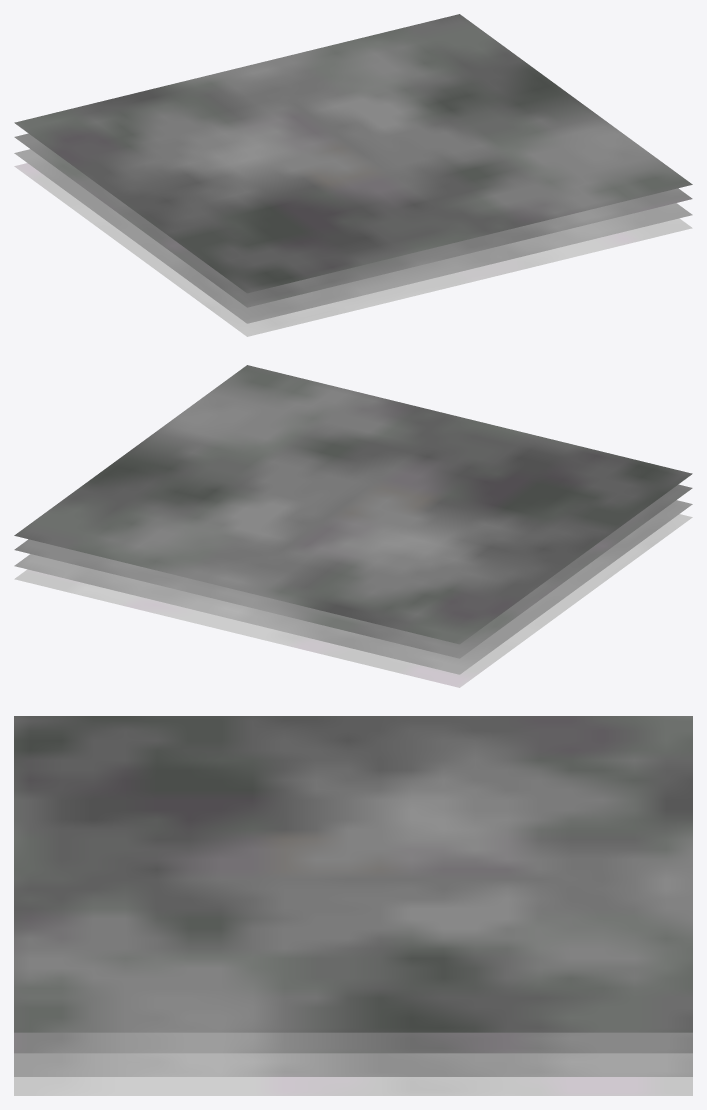
Rendered from SWORDLIGHT20_MAINCAVERNCLOUDS02.fbx.
3 views of the same model, one above another, from view 1: azimuth 30°, elevation 25°; view 2: azimuth 150°, elevation 25°; view 3: azimuth 270°, elevation 25° (orthographic). The views are drawn at different scales.
Visible parts, largest first — view 1: SWORDLIGHT20_MAINCAVERNCLOUDS02; view 2: SWORDLIGHT20_MAINCAVERNCLOUDS02; view 3: SWORDLIGHT20_MAINCAVERNCLOUDS02.
Part boxes in pixels (box(x1,y1,x2,y2)): SWORDLIGHT20_MAINCAVERNCLOUDS02: box(14, 14, 692, 336); SWORDLIGHT20_MAINCAVERNCLOUDS02: box(14, 365, 692, 687); SWORDLIGHT20_MAINCAVERNCLOUDS02: box(14, 716, 692, 1095).
Bounding box in the file's own units: 161490 × 15056 × 146334.
Materials: 4 (4 with a texture image).
